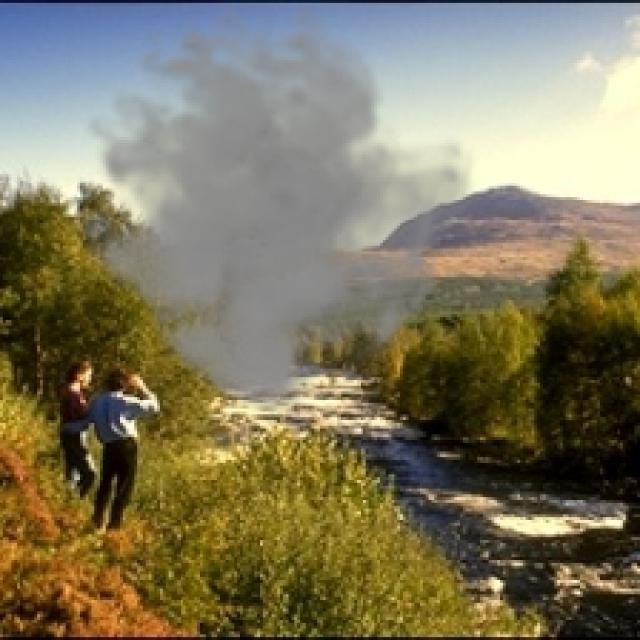smoke: (60, 3, 480, 417)
